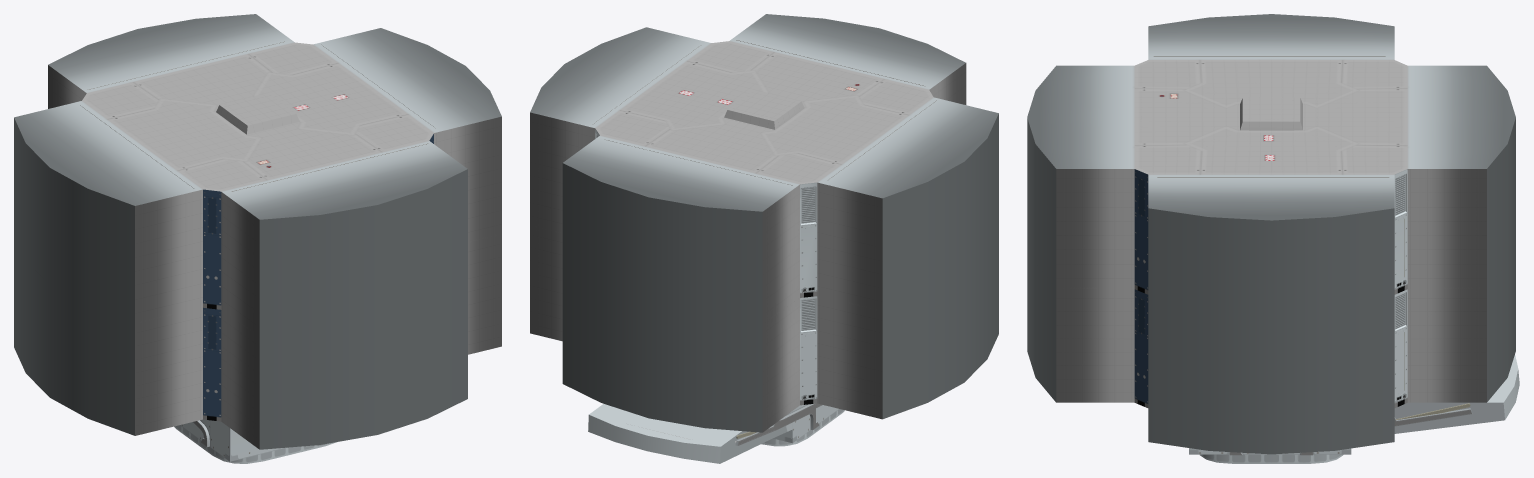
The model's file is JLP.fbx.
The picture shows the model from 3 angles, left to right: view 1: azimuth 30°, elevation 25°; view 2: azimuth 150°, elevation 25°; view 3: azimuth 270°, elevation 25°; orthographic projection. The views are drawn at different scales.
Visible parts, largest first — view 1: JLP_Int_Bulkhead; view 2: JLP_Int_Bulkhead; view 3: JLP_Int_Bulkhead.
Part boxes in pixels (bbox=[...]): JLP_Int_Bulkhead: bbox=[14, 14, 501, 463]; JLP_Int_Bulkhead: bbox=[530, 14, 998, 463]; JLP_Int_Bulkhead: bbox=[1027, 14, 1519, 463].
Size of the model in its own units: 4145 by 3021 by 4178.
